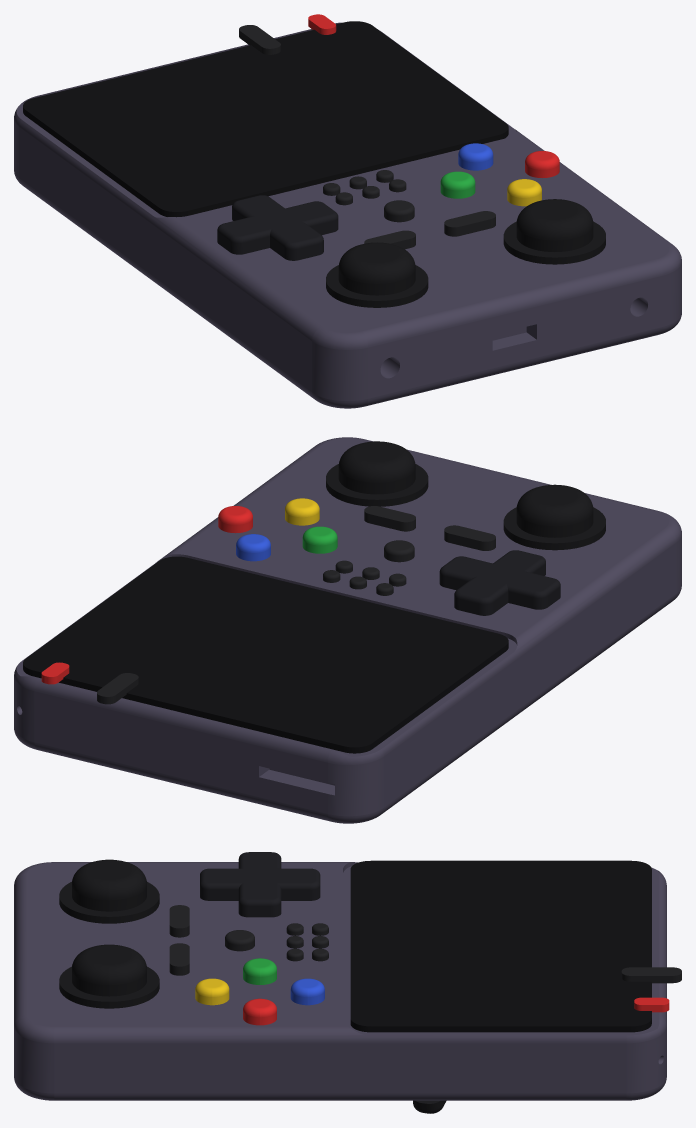
Rendered from handheld_console.glb.
The picture shows the model from 3 angles, top to bottom: view 1: azimuth 30°, elevation 25°; view 2: azimuth 150°, elevation 25°; view 3: azimuth 270°, elevation 25°; orthographic projection. The views are drawn at different scales.
Visible parts, largest first — view 1: body, screen_panel, dpad, stick_left_l3, stick_right_r3, start, btn_y, btn_x, btn_a, btn_b, volume, fn; view 2: body, screen_panel, dpad, stick_left_l3, stick_right_r3, select, start, btn_y, btn_b, btn_x, btn_a, volume (+1 smaller); view 3: body, screen_panel, dpad, stick_right_r3, stick_left_l3, volume, btn_x, btn_b, btn_a, btn_y, start, select (+2 smaller).
Boxes of the visible parts, <box> form: body: <box>14,22,681,408</box>; screen_panel: <box>23,21,508,217</box>; dpad: <box>217,195,338,260</box>; stick_left_l3: <box>326,242,428,307</box>; stick_right_r3: <box>503,199,605,264</box>; start: <box>444,211,495,236</box>; btn_y: <box>440,171,475,198</box>; btn_x: <box>458,143,493,170</box>; btn_a: <box>525,151,559,177</box>; btn_b: <box>507,179,541,206</box>; volume: <box>239,25,280,54</box>; fn: <box>384,200,414,222</box>; body: <box>14,437,681,823</box>; screen_panel: <box>23,556,508,753</box>; dpad: <box>439,550,560,615</box>; stick_left_l3: <box>503,484,605,550</box>; stick_right_r3: <box>326,441,428,506</box>; select: <box>444,525,495,550</box>; start: <box>364,506,415,531</box>; btn_y: <box>302,526,337,553</box>; btn_b: <box>285,498,319,525</box>; btn_x: <box>236,534,270,561</box>; btn_a: <box>218,506,252,533</box>; volume: <box>97,673,138,704</box>; body: <box>14,862,666,1100</box>; screen_panel: <box>350,860,651,1032</box>; dpad: <box>200,852,320,917</box>; stick_right_r3: <box>59,944,159,1008</box>; stick_left_l3: <box>59,859,159,923</box>; volume: <box>621,967,681,983</box>; btn_x: <box>290,978,324,1005</box>; btn_b: <box>195,978,229,1005</box>; btn_a: <box>243,998,276,1025</box>; btn_y: <box>243,958,276,984</box>; start: <box>169,943,189,975</box>; select: <box>169,905,189,937</box>.
Bounding box in the file's own units: 0.082 × 0.0273 × 0.133.
